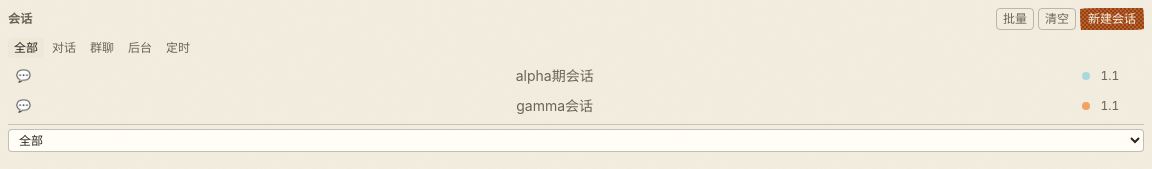
Scenario: ConversationsList — workspace filter (spec 5.5.1-7a, ADR-0021 task 6.9) › switching the filter to the other workspace shows only its sessions
Expected: the text "alpha期会话" is shown, top-left (516, 67), bottom-right (594, 84)
Select "gamma" in the dropdown at (576, 140), box top-left (8, 129), bottom-right (1144, 152)
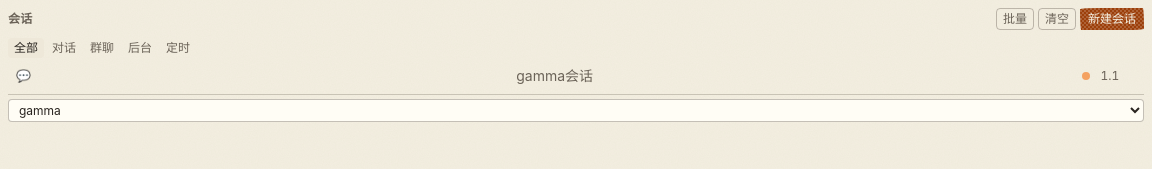
Expected: the text "gamma会话" is shown, top-left (516, 67), bottom-right (593, 84)
Now the button "alpha期会话" is gone
